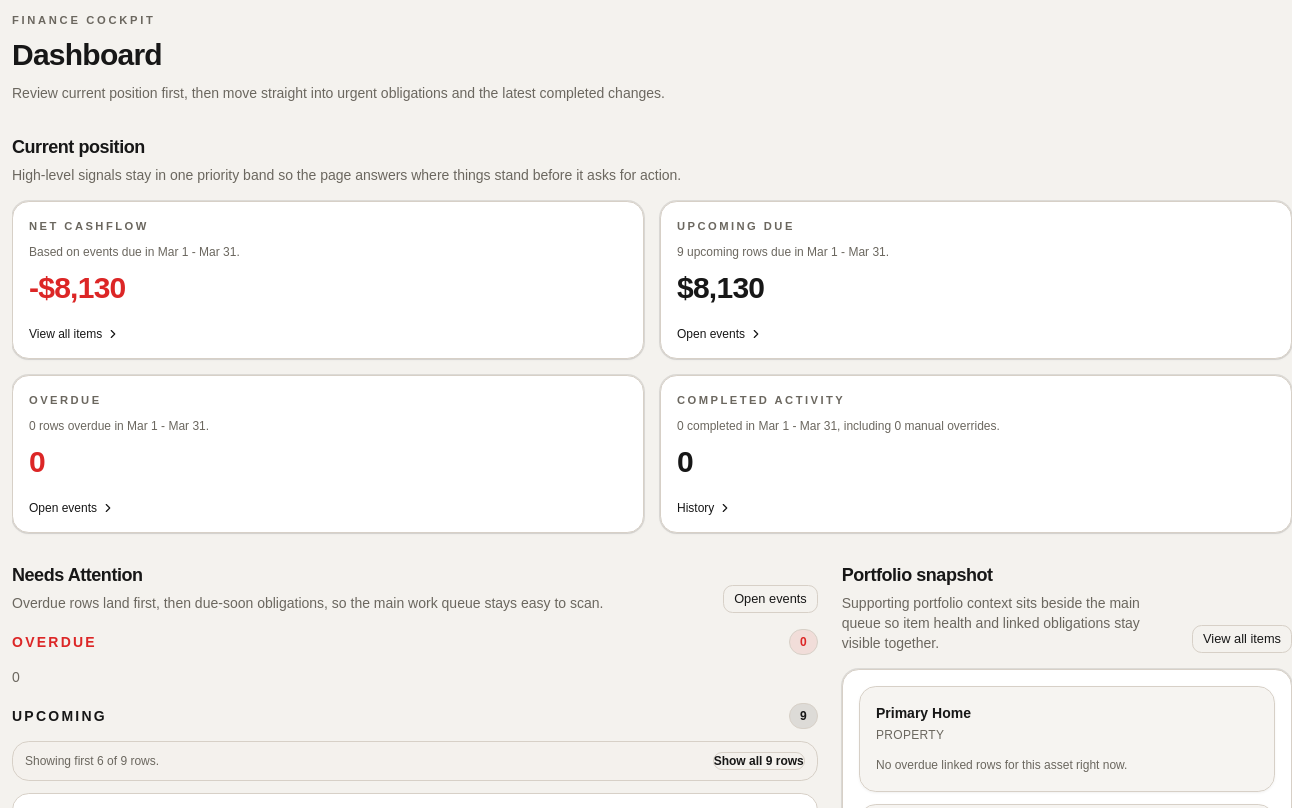
Test: dashboard information architecture › shows only the first six upcoming rows by default and reveals the rest on demand
expect the text "Showing first 6 of 9 rows." is shown: met, box [25,753,159,769]
Click the button "Show all 9 rows". click: (759, 761)
box: [713,752,805,770]
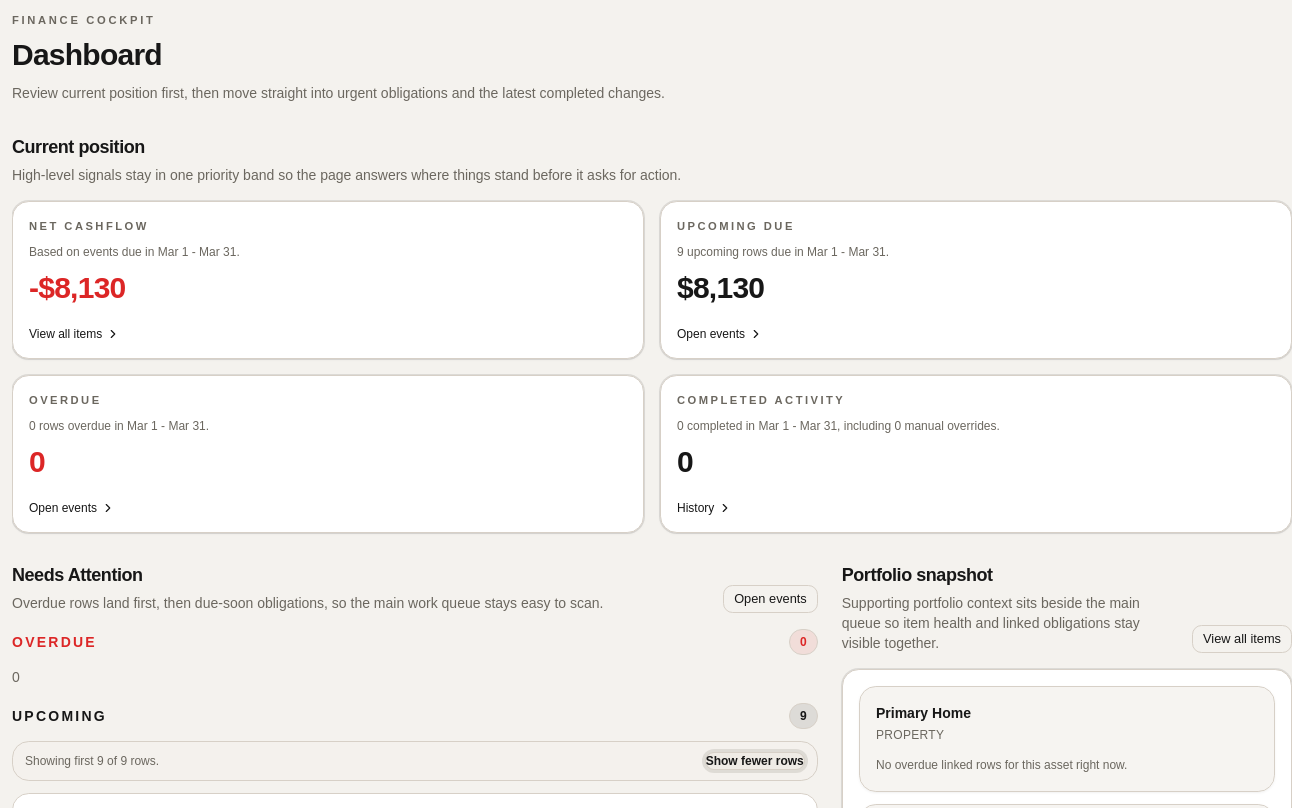
expect the button "Show fewer rows" is expanded: met, box [705,752,805,770]
